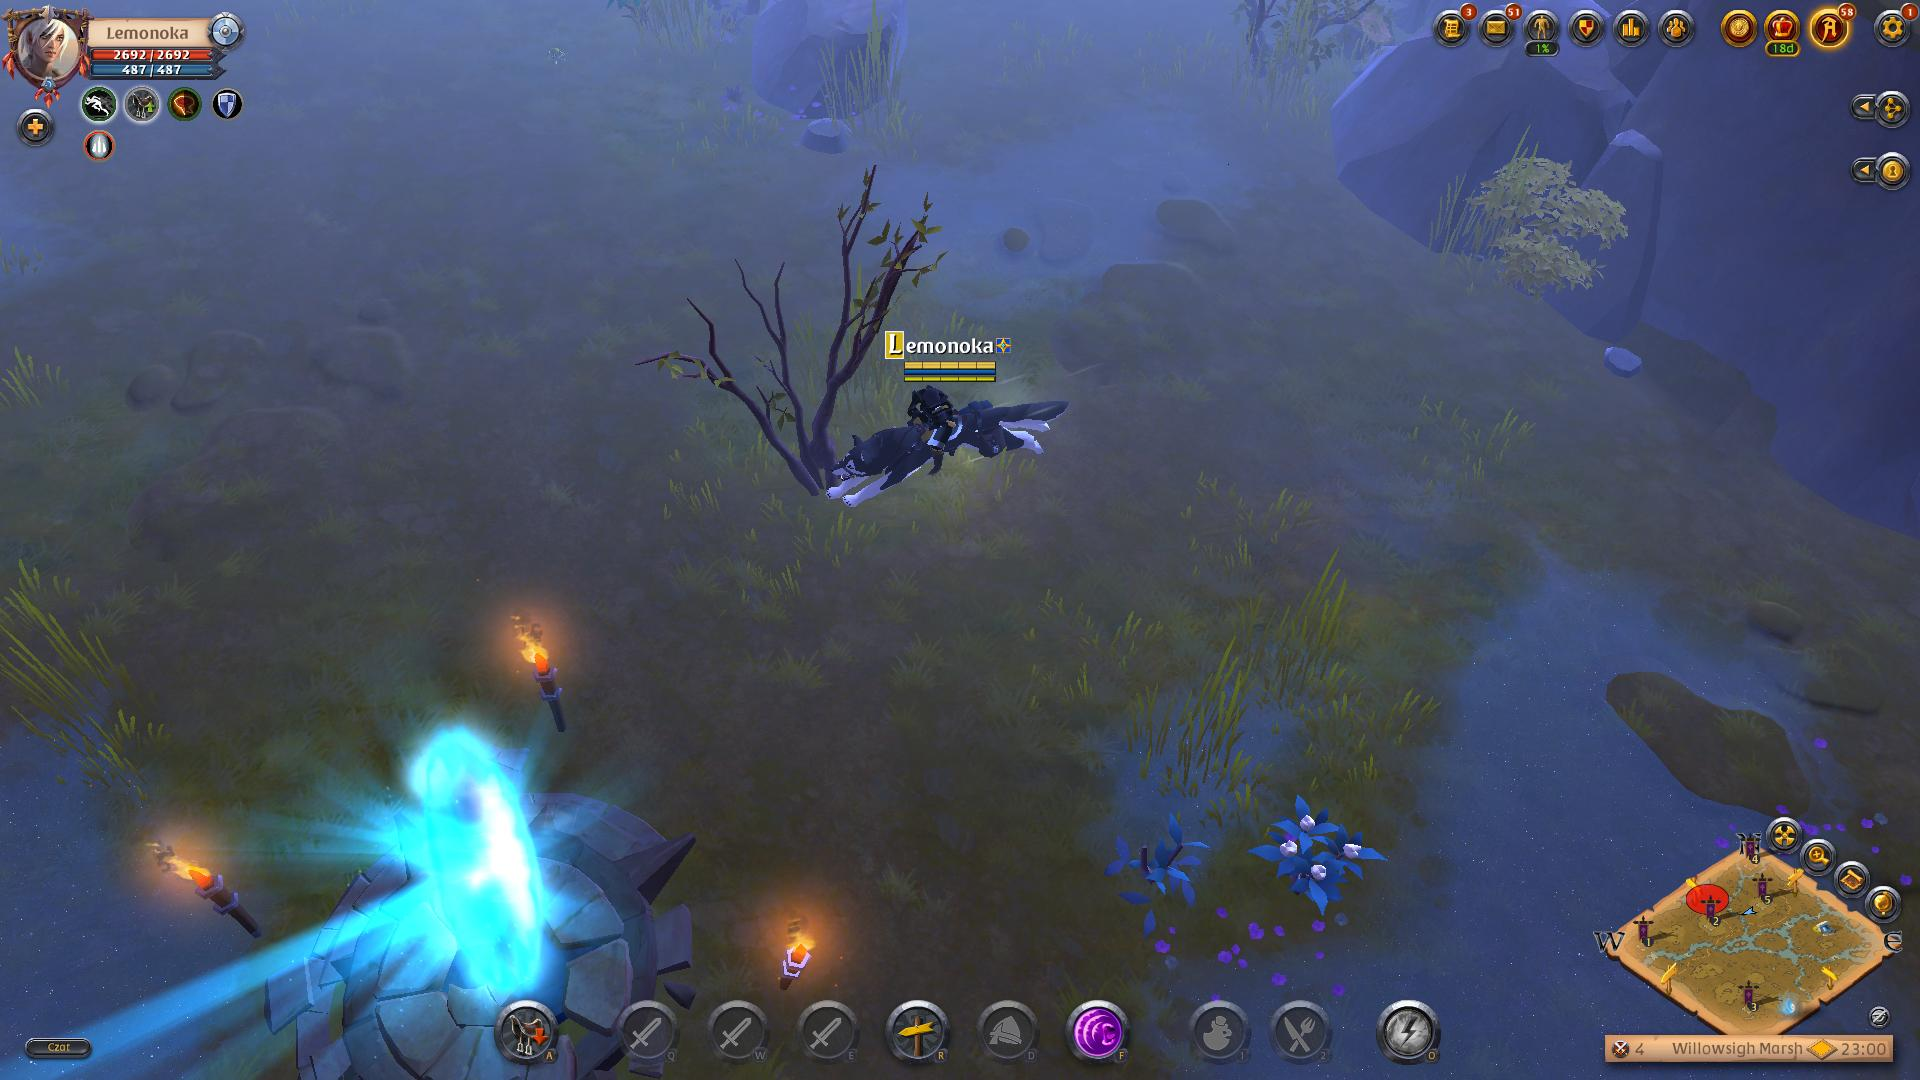fiber tier 4: (1255, 789, 1389, 922)
ore tier 2: (1, 1023, 98, 1080)
